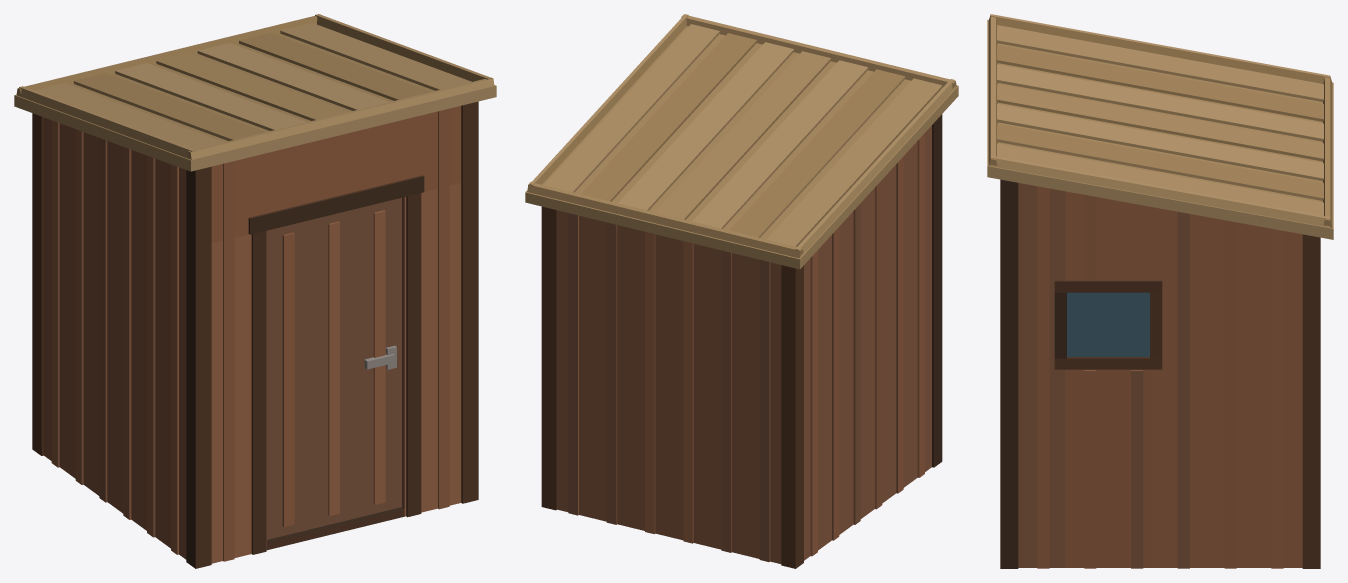
Rendered from tool-shed-f61f49.glb.
3 views of the same model, side by side, from view 1: azimuth 30°, elevation 25°; view 2: azimuth 150°, elevation 25°; view 3: azimuth 270°, elevation 25° (orthographic). The views are drawn at different scales.
Visible parts, largest first — view 1: shed-shell, door-leaf; view 2: shed-shell; view 3: shed-shell.
Part boxes in pixels (x1=…): shed-shell: x1=14, y1=14, x2=496, y2=568; door-leaf: x1=267, y1=198, x2=401, y2=539; shed-shell: x1=525, y1=14, x2=958, y2=568; shed-shell: x1=987, y1=14, x2=1333, y2=568.
Size of the model in its own units: 2 by 2.65 by 2.
